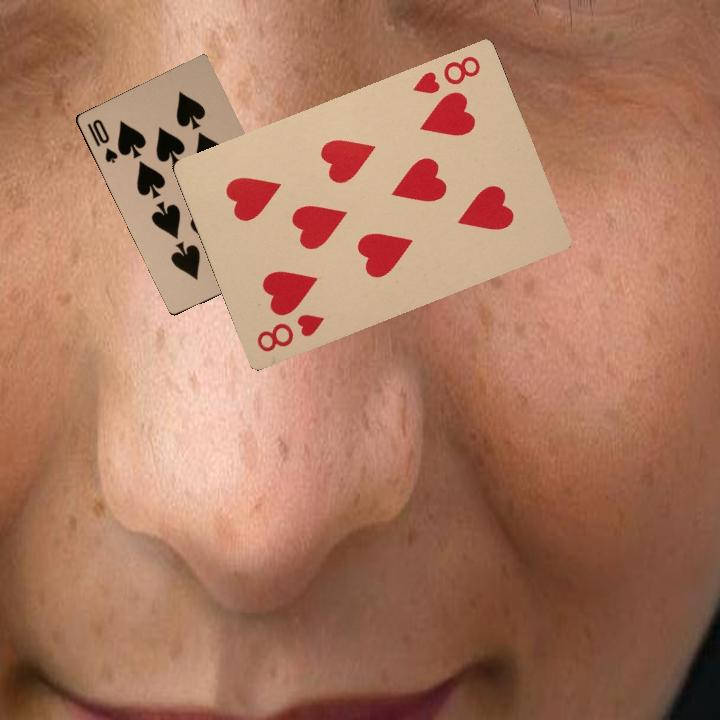10s: (83, 115, 120, 166)
8h: (252, 310, 327, 355), (410, 51, 483, 97)
